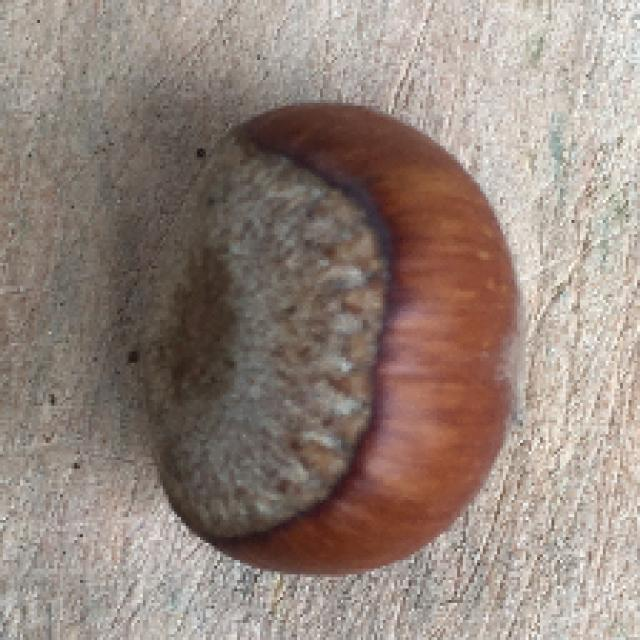qualityHazelnut: (129, 98, 527, 579)
